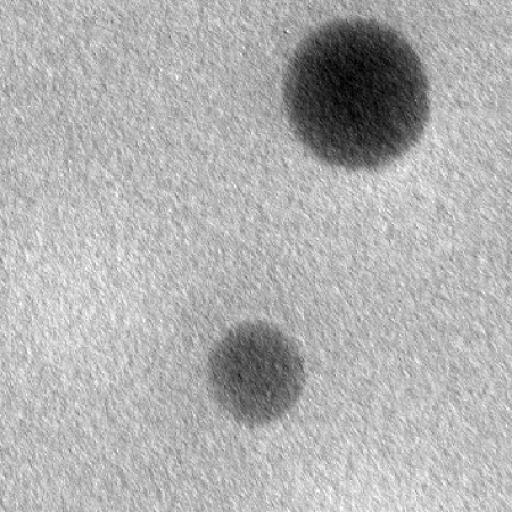Nanoparticles: (282, 18, 432, 170), (205, 318, 309, 425)
